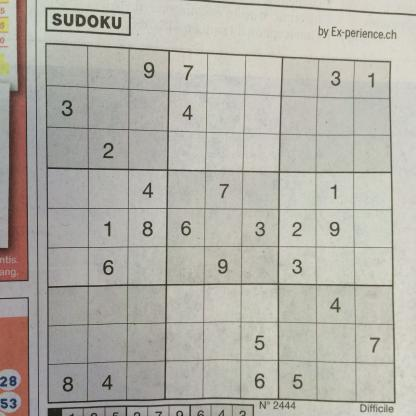sudoku: (43, 40, 401, 408)
